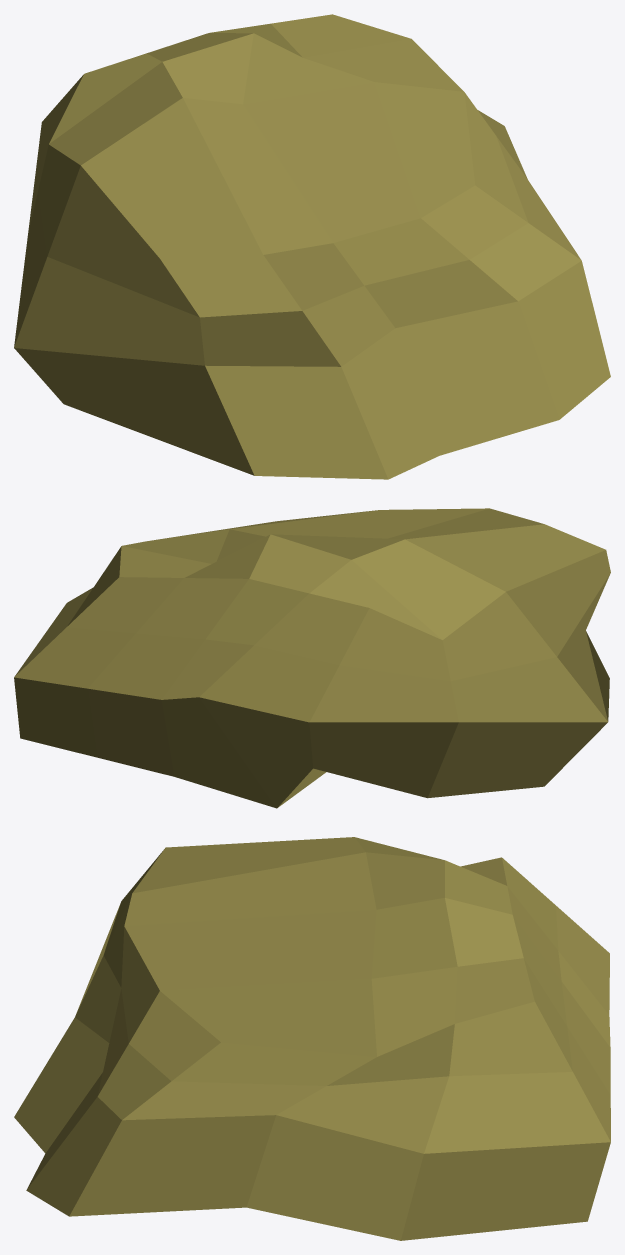
Rendered from stone 4.fbx.
3 renders of one model, top to bottom at view 1: azimuth 30°, elevation 25°; view 2: azimuth 150°, elevation 25°; view 3: azimuth 270°, elevation 25°, orthographic. The views are drawn at different scales.
Visible parts, largest first — view 1: Cube.003; view 2: Cube.003; view 3: Cube.003.
Part boxes in pixels (x1,y1,x2,y2): Cube.003: (14,14,610,479); Cube.003: (14,508,610,808); Cube.003: (14,837,610,1240).
Bounding box in the file's own units: 310 × 141 × 288.
